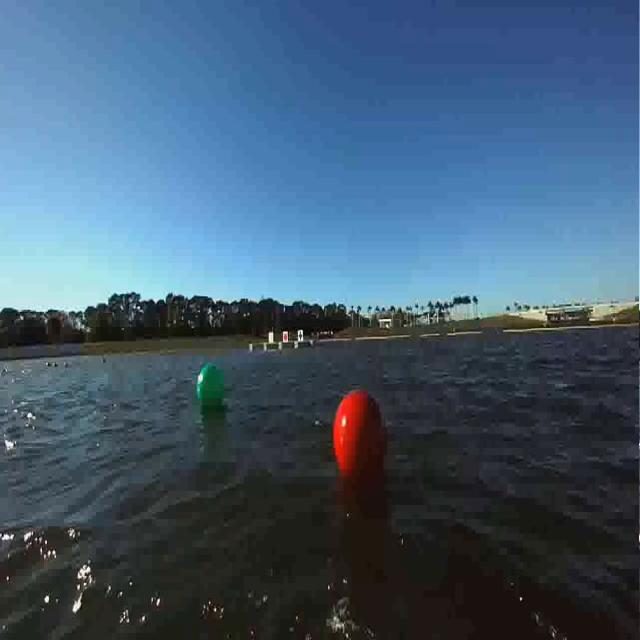green-buoy: (197, 361, 228, 406)
red-buoy: (332, 389, 389, 479)
